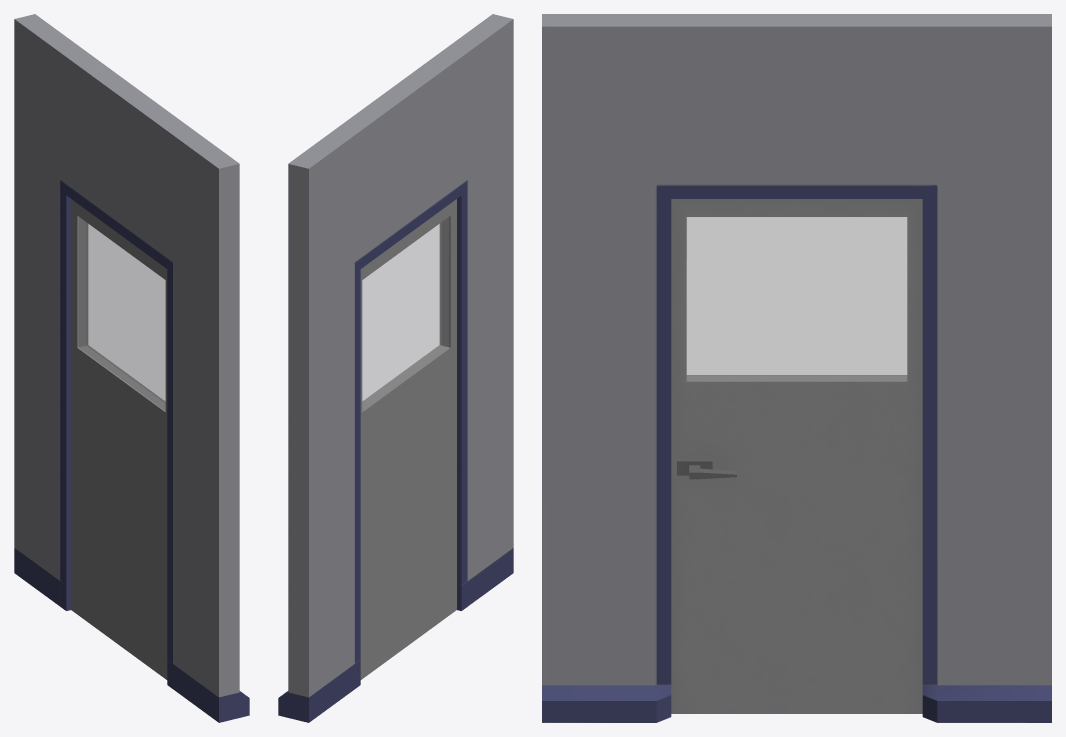
The model's file is door.glb.
The picture shows the model from 3 angles, left to right: view 1: azimuth 30°, elevation 25°; view 2: azimuth 150°, elevation 25°; view 3: azimuth 270°, elevation 25°; orthographic projection. The views are drawn at different scales.
Parts seen in each view (by area): view 1: DoorWall-material, Door-material; view 2: DoorWall-material, Door-material; view 3: DoorWall-material, Door-material.
Part boxes in pixels (x1,y1,x2,y2): DoorWall-material: [14, 14, 249, 722]; Door-material: [71, 199, 167, 679]; DoorWall-material: [278, 14, 513, 722]; Door-material: [360, 199, 456, 679]; DoorWall-material: [542, 14, 1051, 722]; Door-material: [671, 199, 922, 713].
Size of the model in its own units: 0.0281 by 0.4864 by 0.3256.
Materials: 2 (2 with a texture image).
